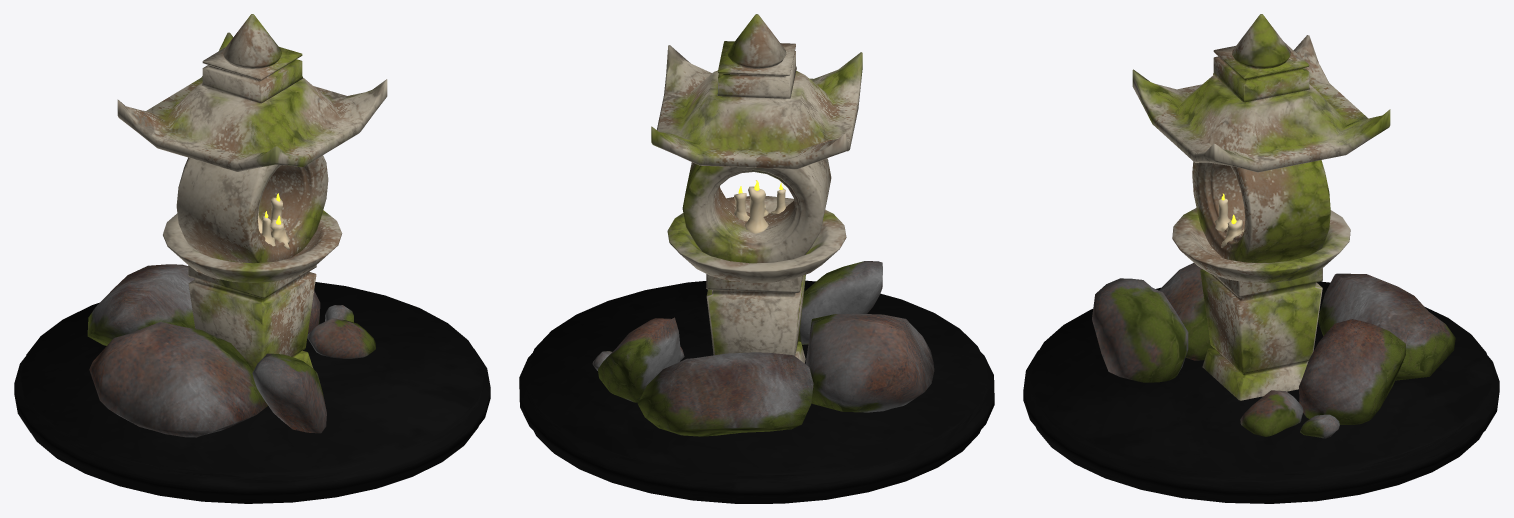
The model's file is Dream2_Stone_Shrine.glb.
The picture shows the model from 3 angles, left to right: view 1: azimuth 30°, elevation 25°; view 2: azimuth 150°, elevation 25°; view 3: azimuth 270°, elevation 25°; orthographic projection.
Parts seen in each view (by area): view 1: Additionals; view 2: Additionals; view 3: Additionals.
Boxes of the visible parts, <box> form: Additionals: <box>14,14,490,503</box>; Additionals: <box>519,14,994,503</box>; Additionals: <box>1023,14,1499,503</box>.
Size of the model in its own units: 8.25 by 7.49 by 8.25.
Materials: 1 (1 with a texture image).
